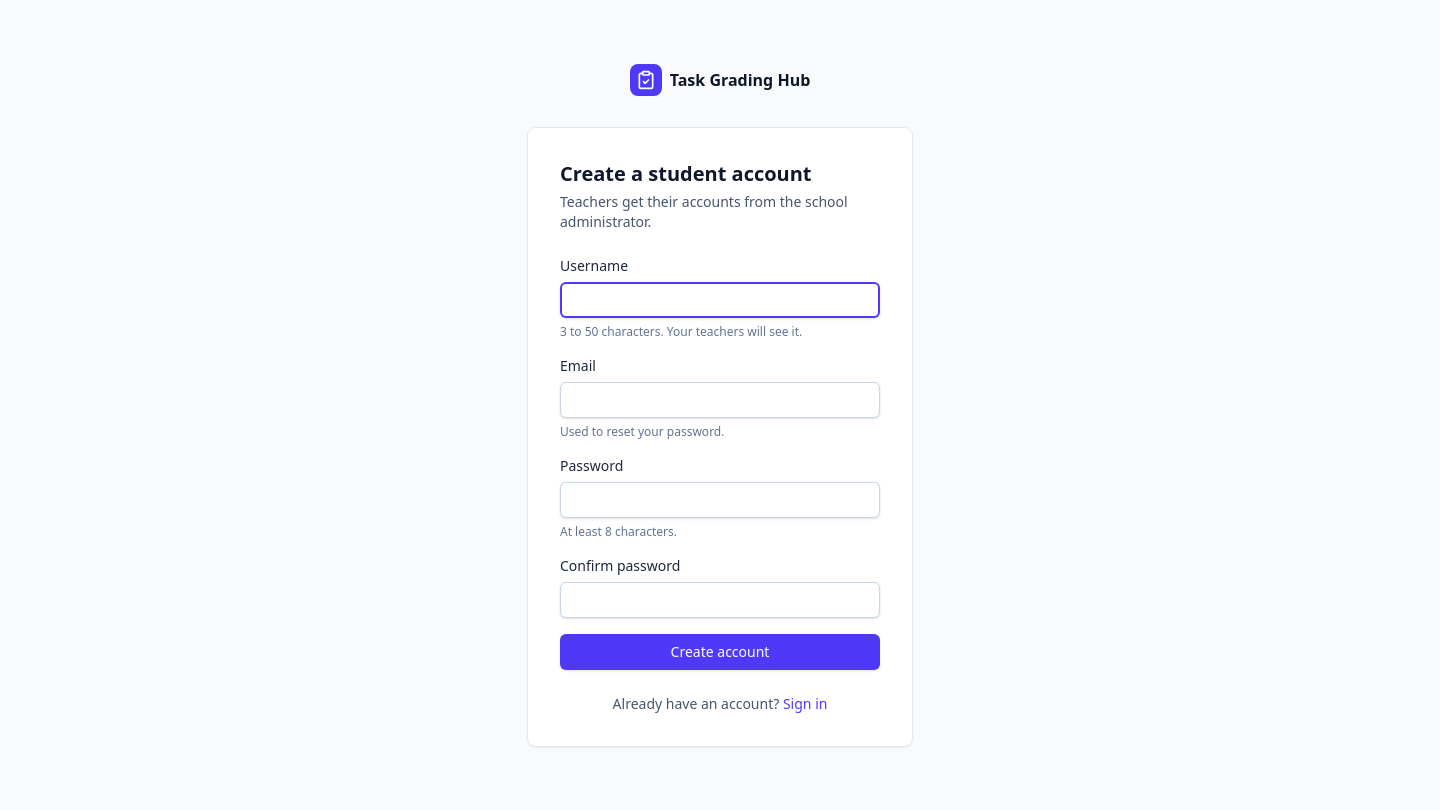
register › creates a student account and signs straight in
Type "newstudent" into the field labelled "Username".
click(720, 300); type("newstudent")  # box [560, 282, 880, 318]
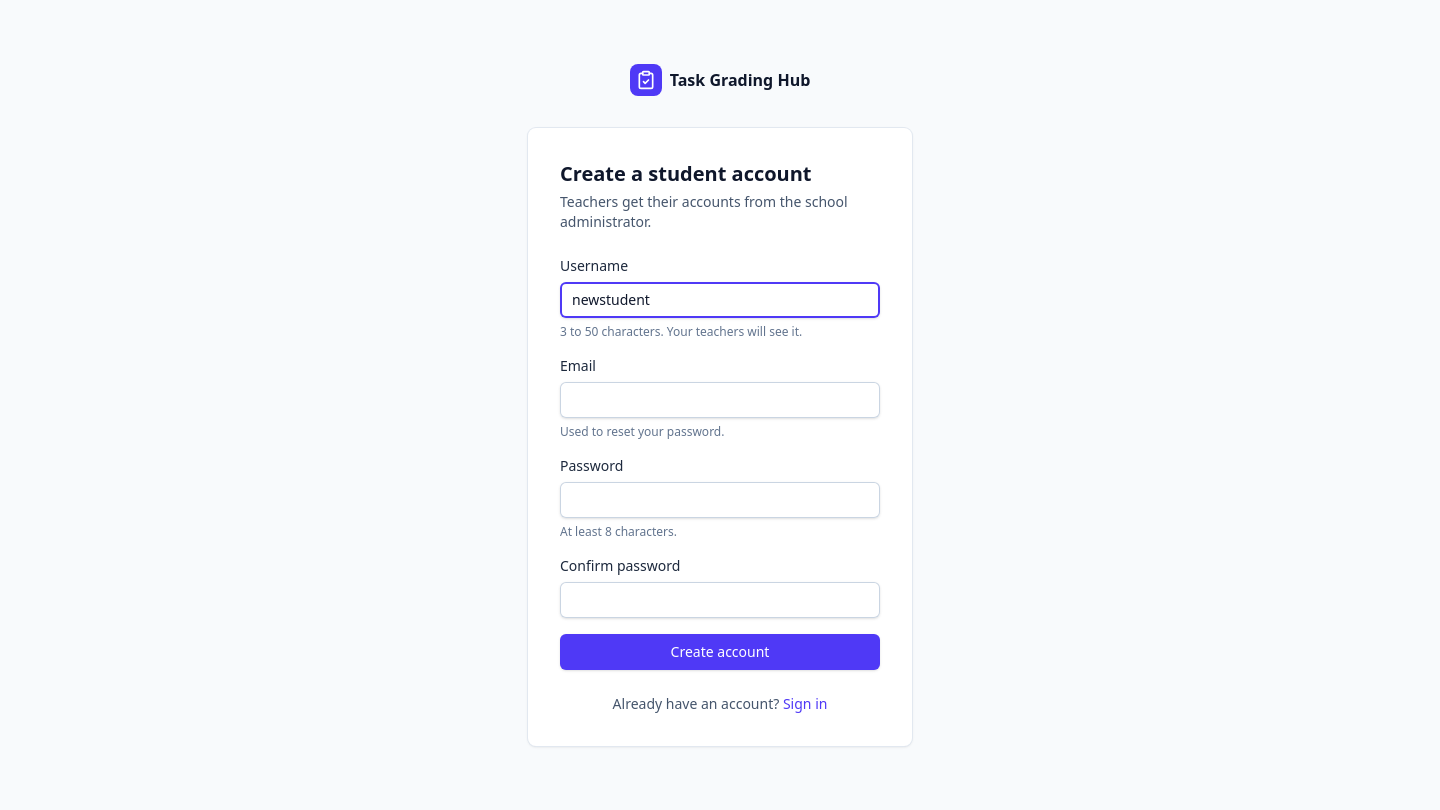
Type "new@example.com" into the field labelled "Email".
click(720, 400); type("new@example.com")  # box [560, 382, 880, 418]
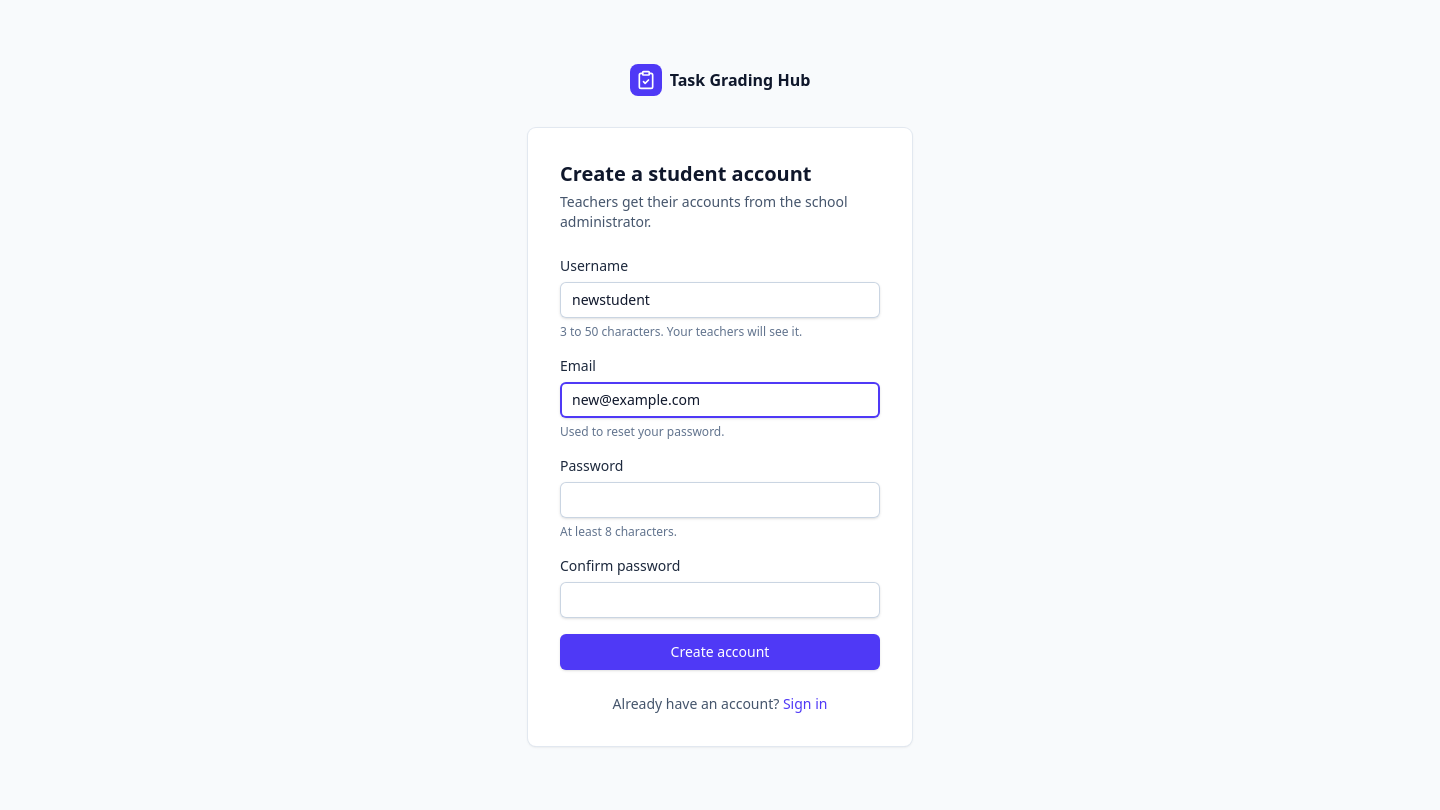
Type "LongEnough1" into the password field labelled "Password".
click(720, 500); type("LongEnough1")  # box [560, 482, 880, 518]
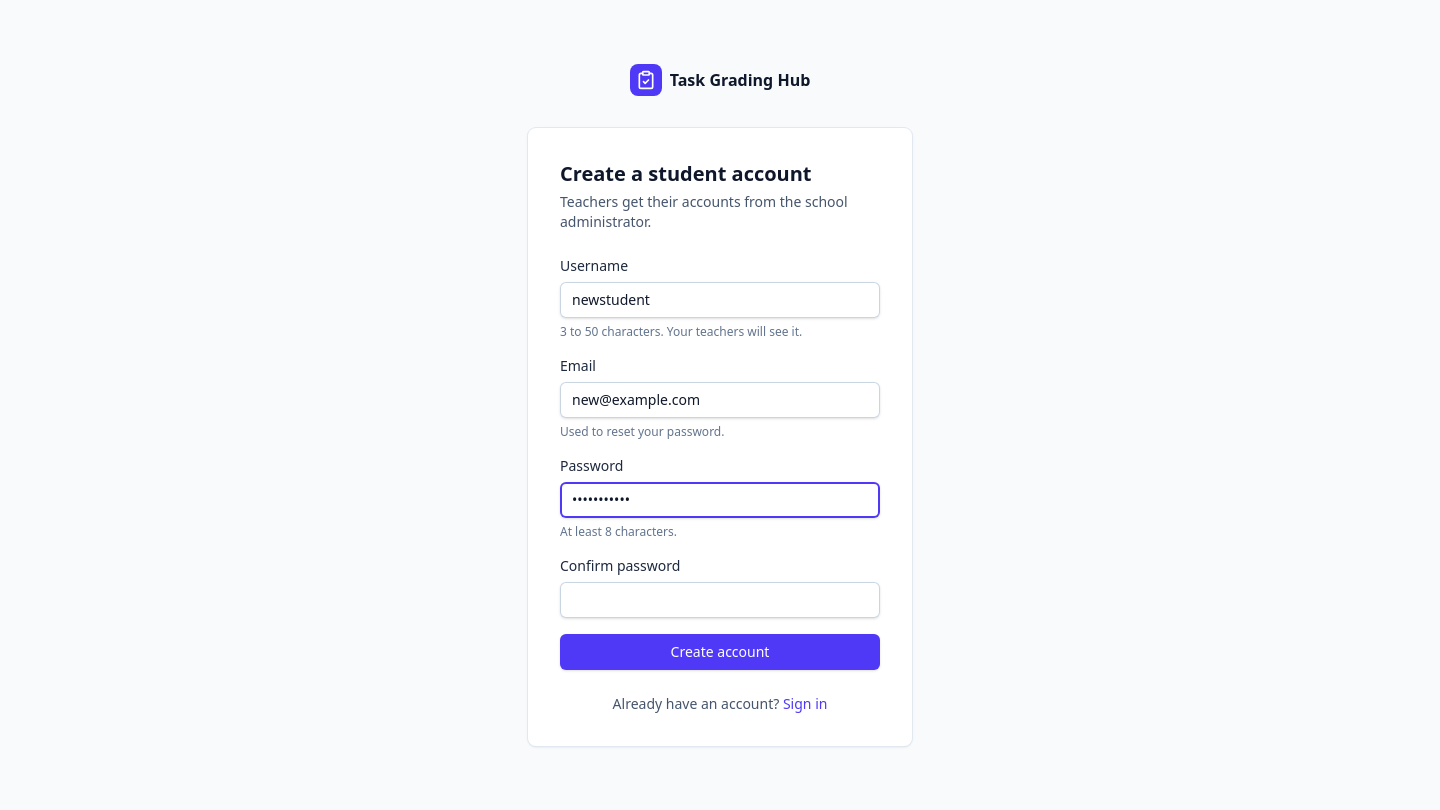
Type "LongEnough1" into the password field labelled "Confirm password".
click(720, 600); type("LongEnough1")  # box [560, 582, 880, 618]
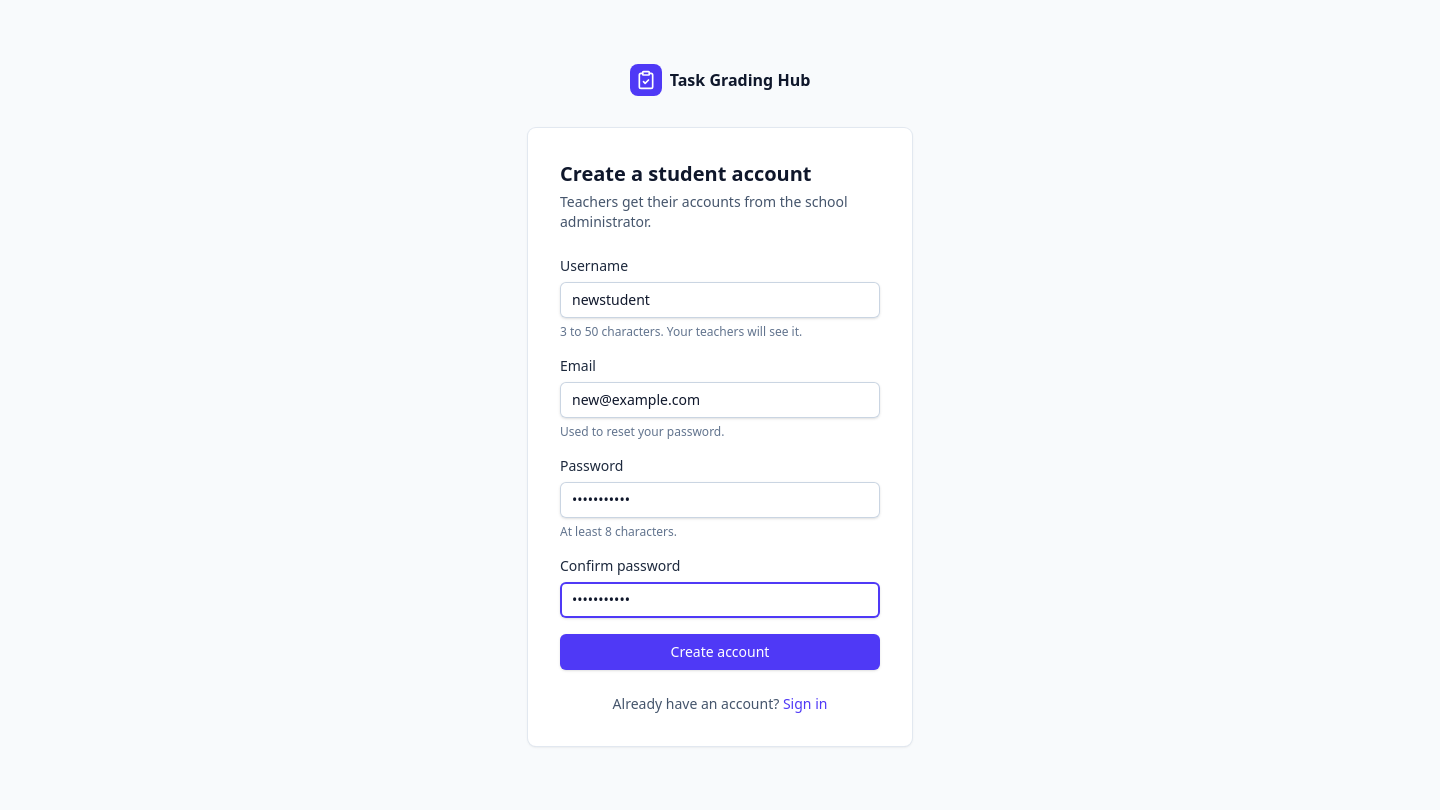
Click the button "Create account".
click(720, 652)  # box [560, 634, 880, 670]
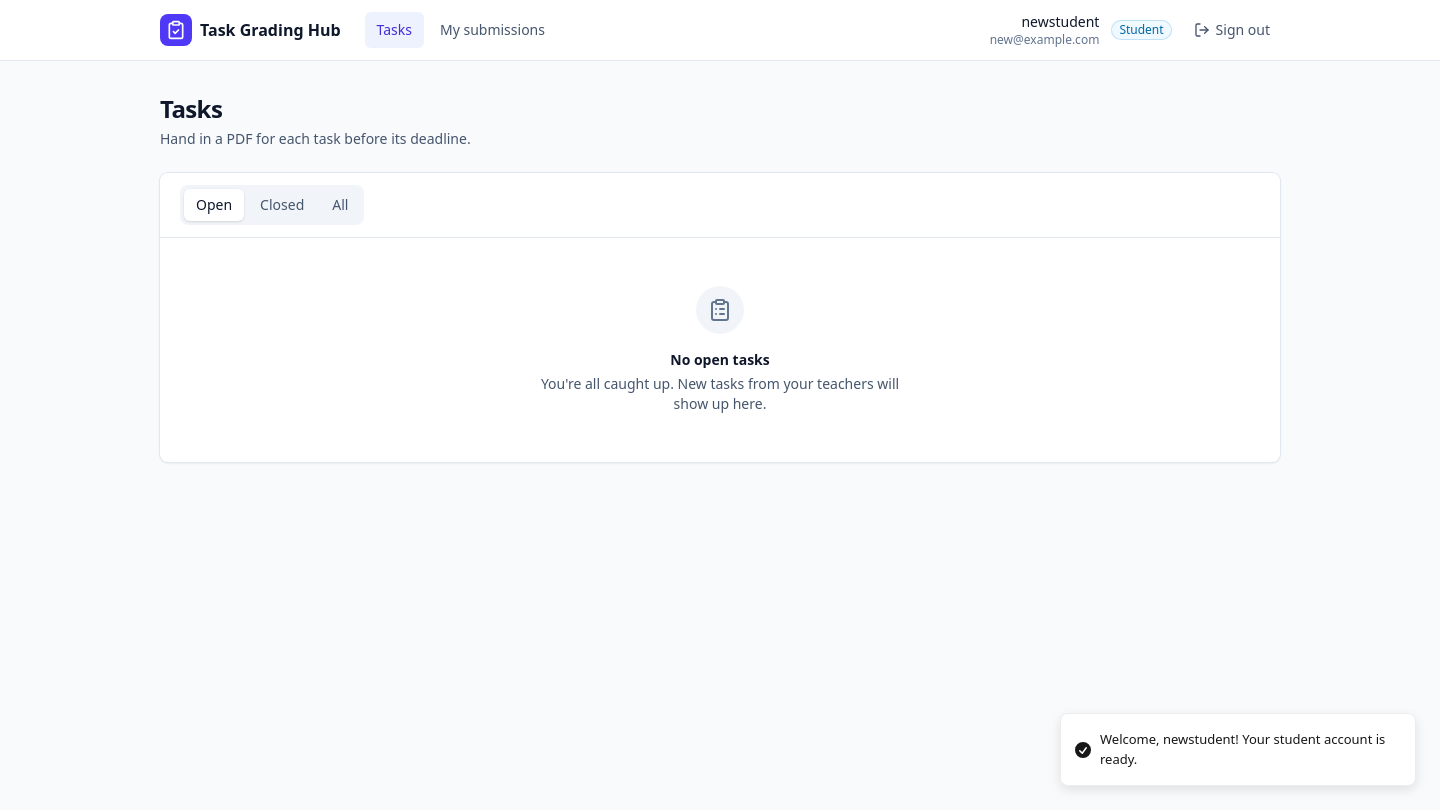
Expected: the text "newstudent" is shown, [1022, 12, 1099, 31]
Expected: the text "Student" is shown, [1111, 20, 1172, 40]
